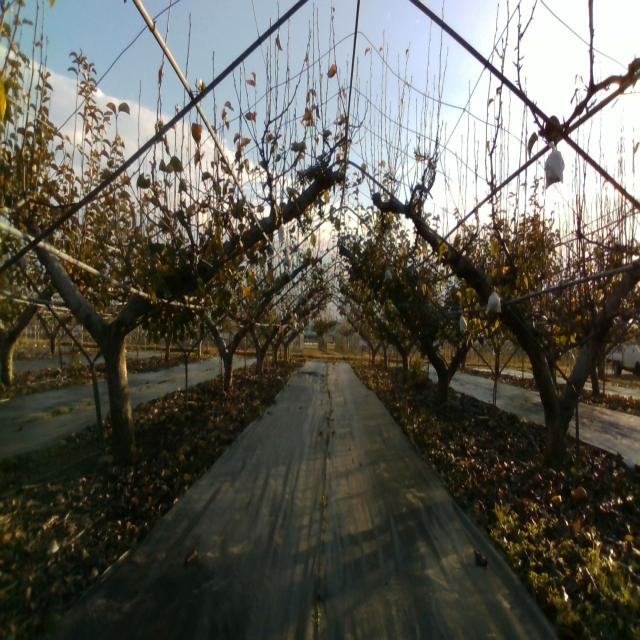pearbags: (544, 139, 565, 188), (485, 285, 502, 315)
